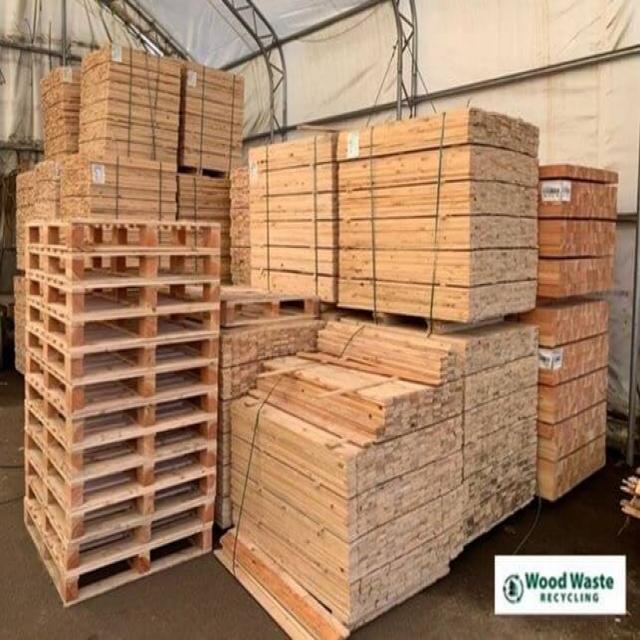green waste: (9, 57, 631, 640)
